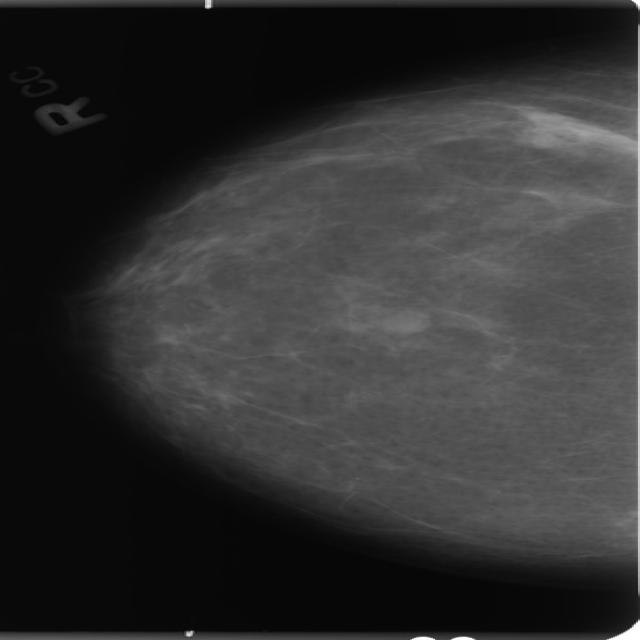tumour: (375, 309, 429, 334)
